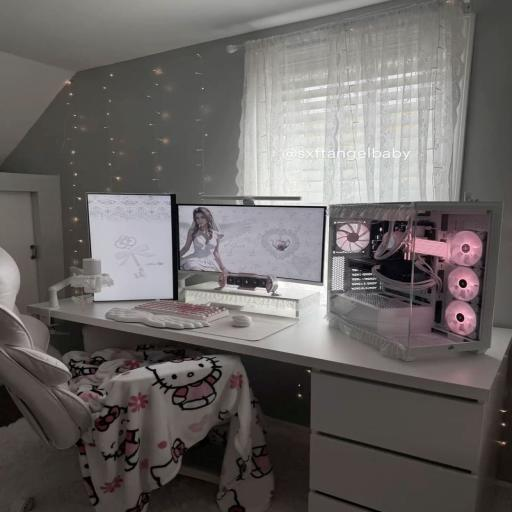computer case: (328, 201, 503, 354)
monitor: (179, 205, 323, 283), (87, 194, 178, 301)
